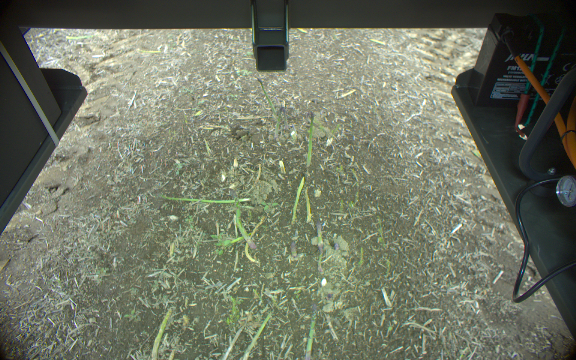aspa: (233, 200, 257, 251), (162, 191, 257, 203), (255, 76, 277, 127), (302, 302, 319, 360), (290, 176, 303, 221), (305, 111, 314, 167), (316, 244, 327, 273), (279, 105, 290, 133), (314, 217, 323, 244), (287, 240, 298, 257)
